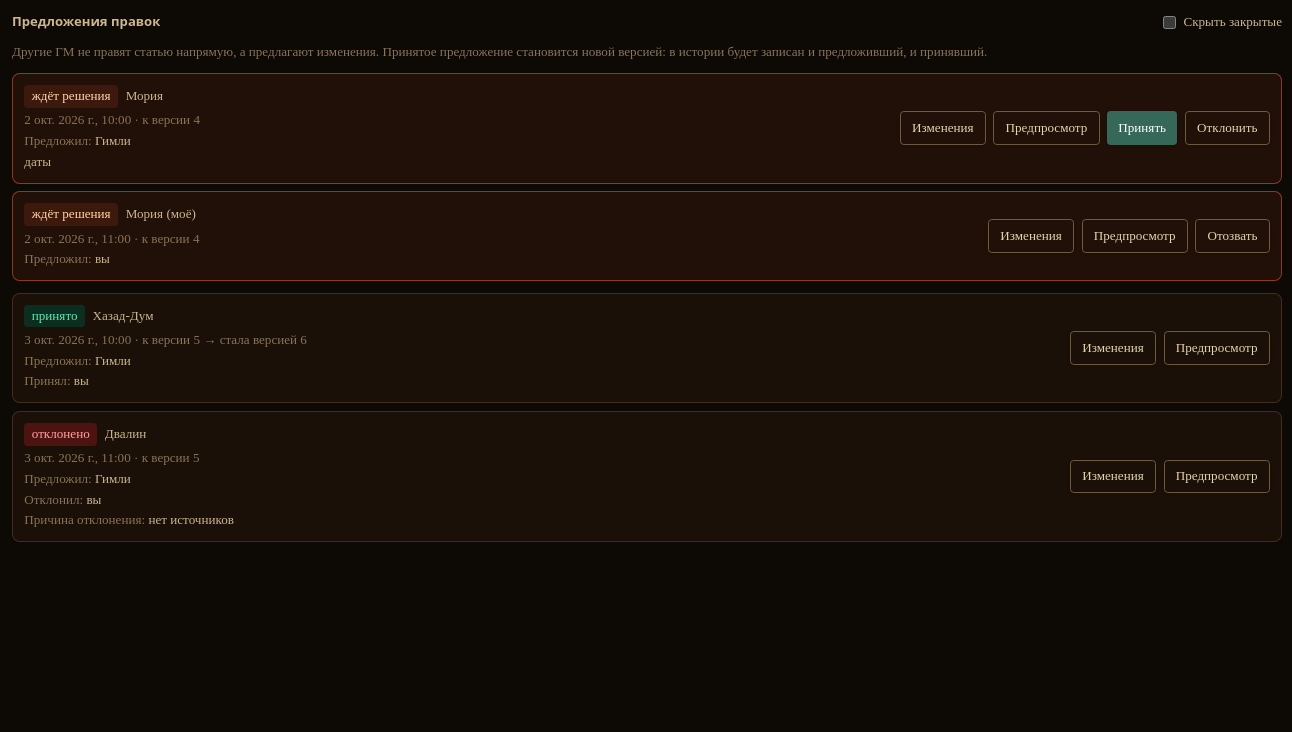
Scenario: ArticleProposals › reports a plain 409 as an already closed proposal
Click the button "Принять" at (1142,128), box [1107,111,1177,145]
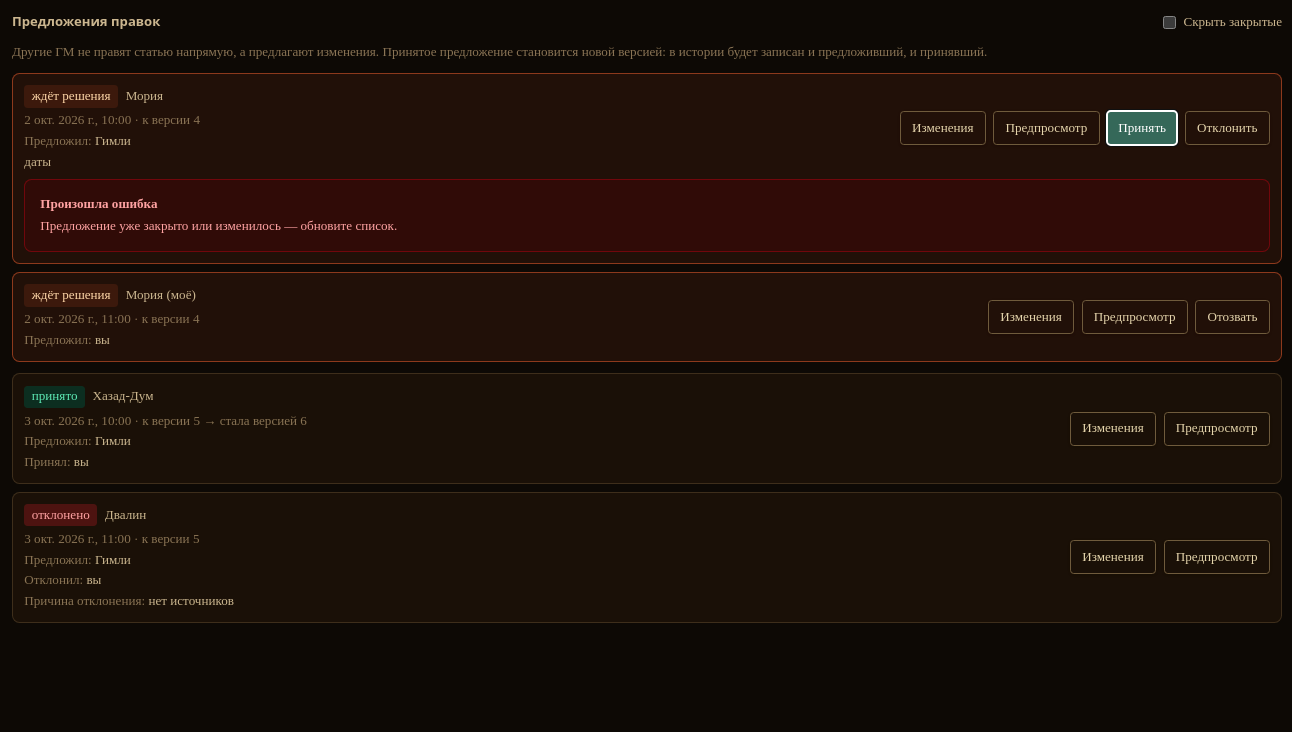
Result: the text "Предложение уже закрыто или изменилось — обновите список." is shown at [40,218,397,233]
